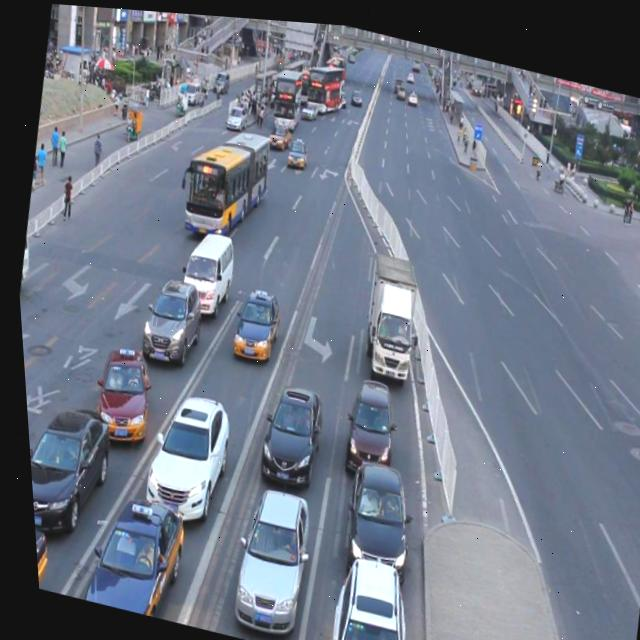bus: (350, 244, 424, 375)
car: (67, 481, 186, 621), (214, 474, 314, 637), (127, 381, 234, 532), (21, 394, 113, 548), (327, 449, 415, 577), (310, 539, 414, 640), (245, 373, 325, 491), (82, 340, 154, 450), (130, 270, 206, 371), (331, 369, 399, 481), (224, 279, 282, 360), (27, 517, 46, 590)
truck: (169, 221, 239, 322)
van: (173, 112, 276, 245)
